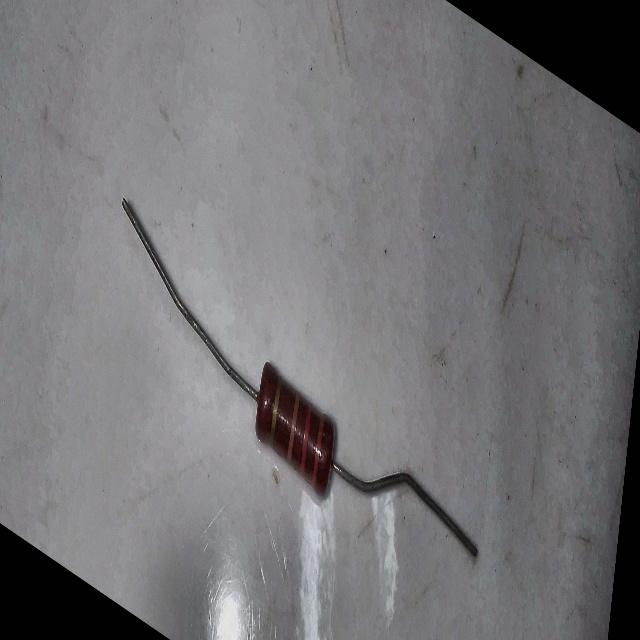Carbon Resistor: (92, 158, 494, 626)
